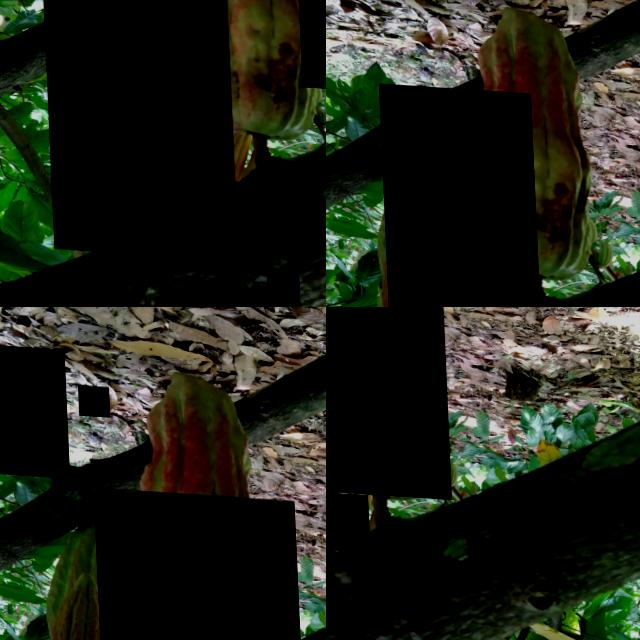Fitoftora: (37, 0, 233, 256), (91, 484, 298, 640), (326, 307, 448, 494)
Monilia: (376, 81, 538, 307)
Sana: (0, 342, 67, 476), (326, 489, 366, 548), (261, 263, 295, 307), (77, 382, 108, 414)
